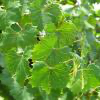grape leaf: (30, 34, 76, 70), (26, 61, 72, 95), (4, 45, 34, 88), (26, 0, 64, 32), (1, 22, 38, 54), (43, 21, 78, 48), (80, 62, 99, 97), (0, 1, 22, 31), (71, 49, 87, 87), (79, 31, 95, 61)
